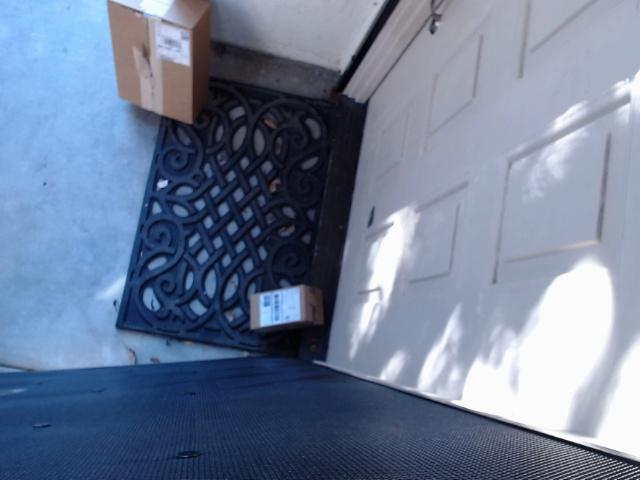box: (106, 0, 212, 124), (250, 284, 324, 336)
